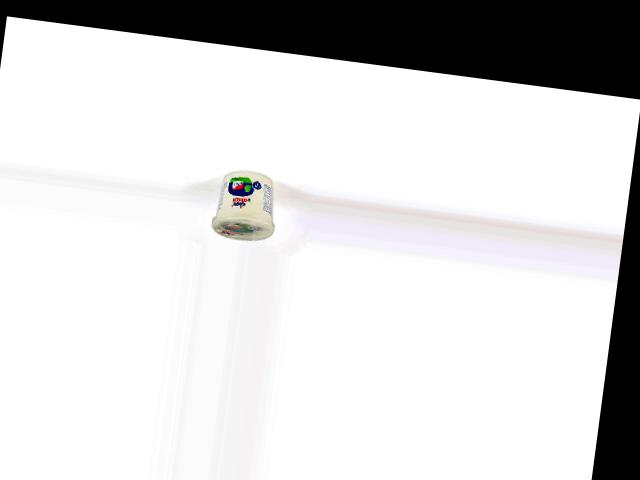cotage: (207, 164, 282, 244)
